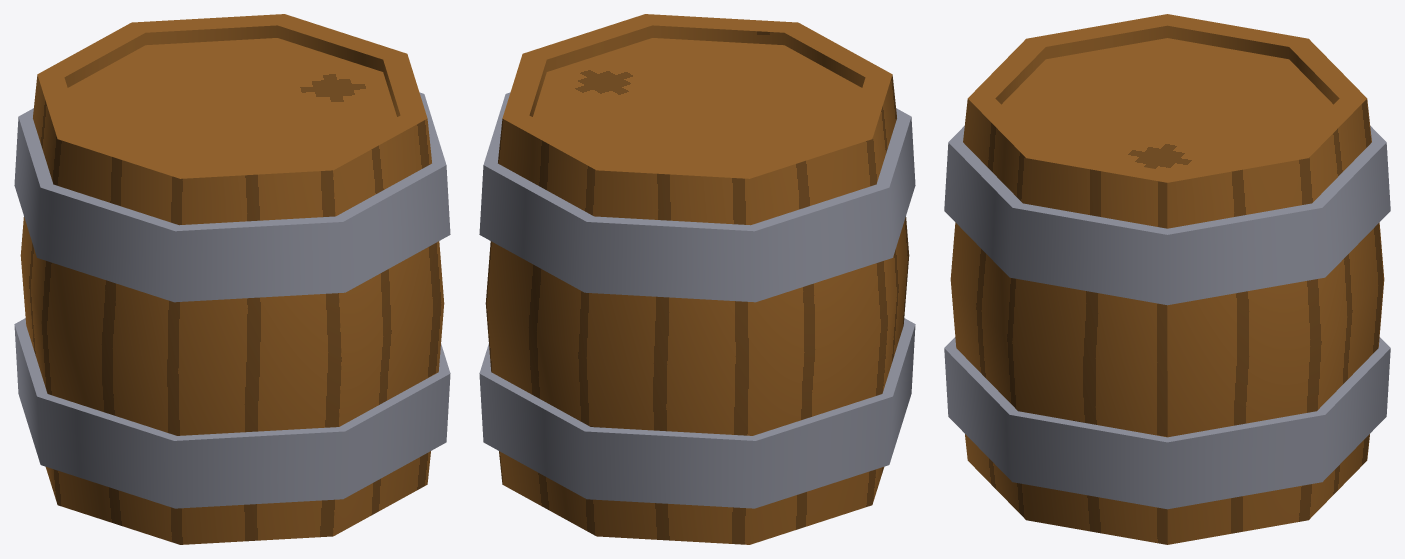
File: barrel.glb
3 renders of one model, left to right at view 1: azimuth 30°, elevation 25°; view 2: azimuth 150°, elevation 25°; view 3: azimuth 270°, elevation 25°, orthographic.
Visible parts, largest first — view 1: barrel; view 2: barrel; view 3: barrel.
Boxes of the visible parts, left/top/right/bottom form: barrel: left=14, top=14, right=450, bottom=544; barrel: left=479, top=14, right=915, bottom=544; barrel: left=944, top=14, right=1390, bottom=544.
Size of the model in its own units: 2.24 by 2 by 2.24.
1 material, 1 textured.
